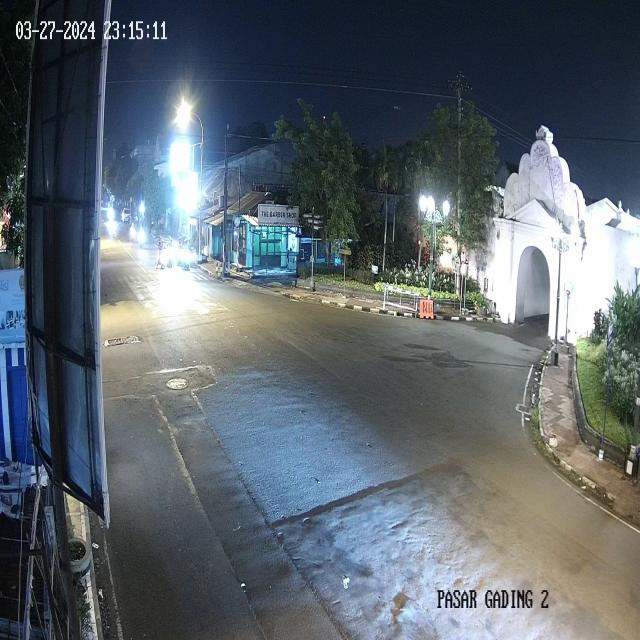motorcycle: (182, 239, 190, 274), (156, 236, 163, 270), (167, 237, 174, 269), (176, 237, 183, 267), (138, 224, 145, 250), (129, 222, 137, 244)
